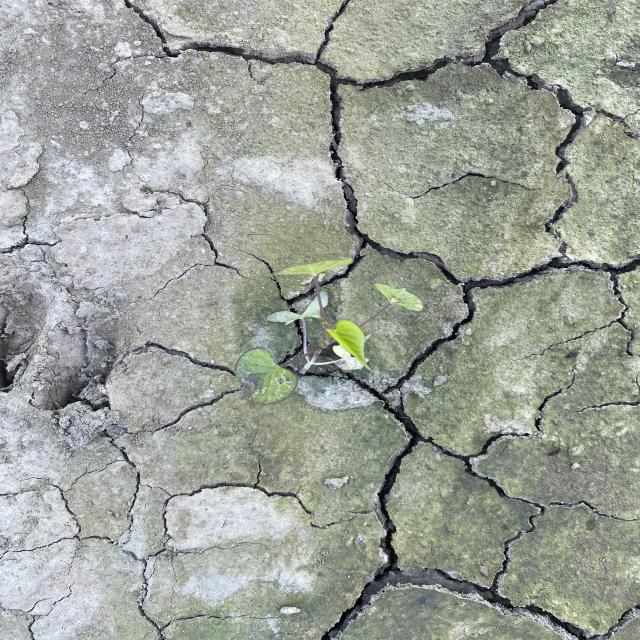MorningGlory: (232, 255, 425, 407)
